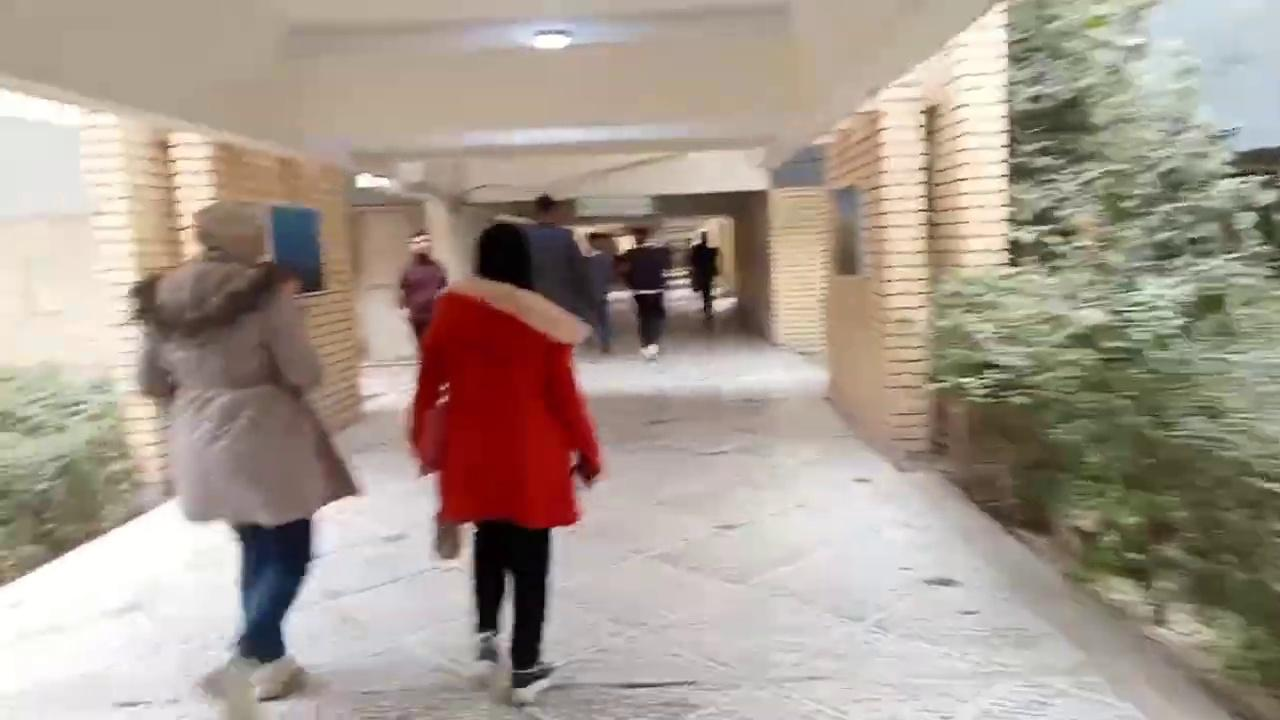person: (134, 199, 358, 701), (410, 221, 603, 705), (521, 192, 597, 350), (611, 226, 673, 360), (397, 228, 448, 343), (582, 231, 616, 353), (689, 228, 722, 319)
tree: (921, 0, 1278, 698), (0, 357, 141, 582)
